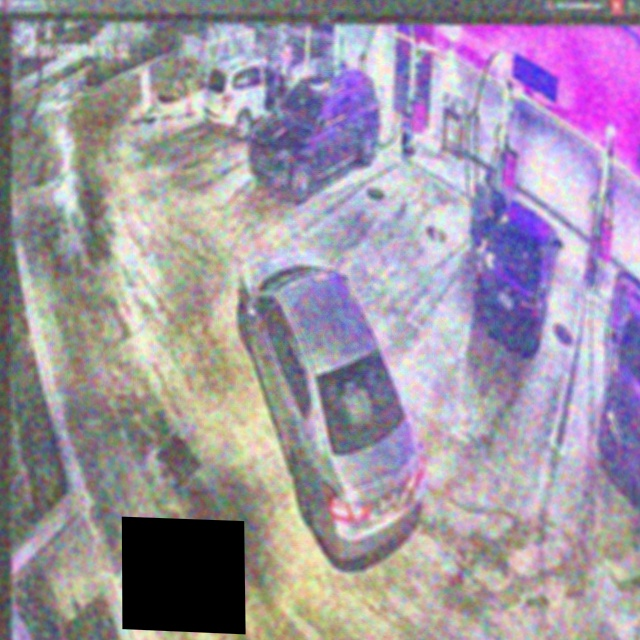Car: (234, 245, 428, 564), (245, 65, 384, 202), (470, 173, 565, 352)
